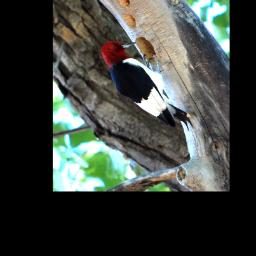Woodpecker: (103, 39, 197, 131)
